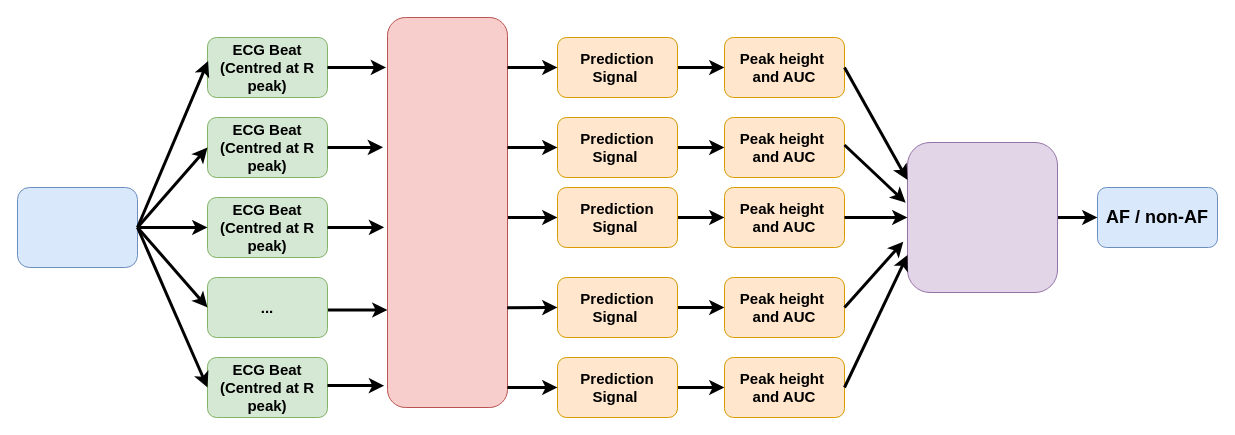
Some shapes in this 1235 by 435 pixel diagram are drawn without their labels. The centre of each missing label's shape, as x and y in pixels:
ECG Segment (10s or 30s): (x=77, y=227)
P-wave Detection Model: (x=447, y=212)
Statistical and Threshold-based features: (x=982, y=217)
